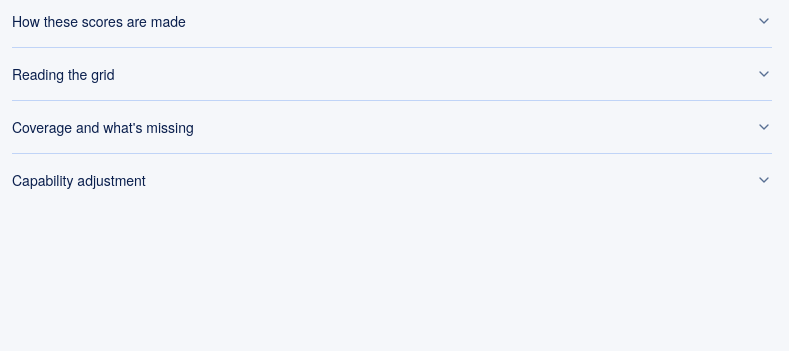
it: Methodology › scales the coverage fraction into a percentage
The width and height of the screenshot is (789, 351).
Click the button "Coverage and what's missing" at [103, 127], box [12,101,772,153]
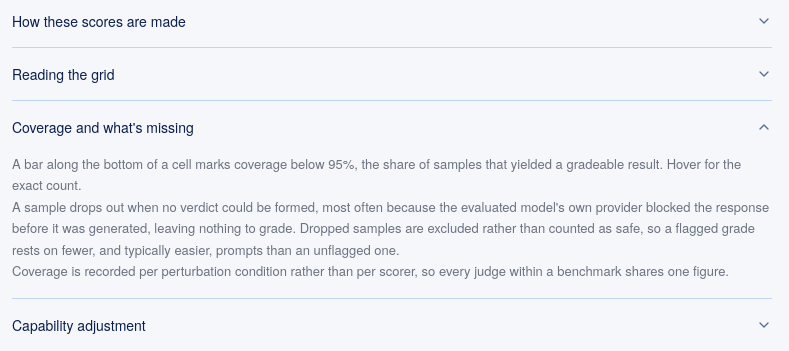
Expected: the text "95%" is shown, [12,153,772,196]
